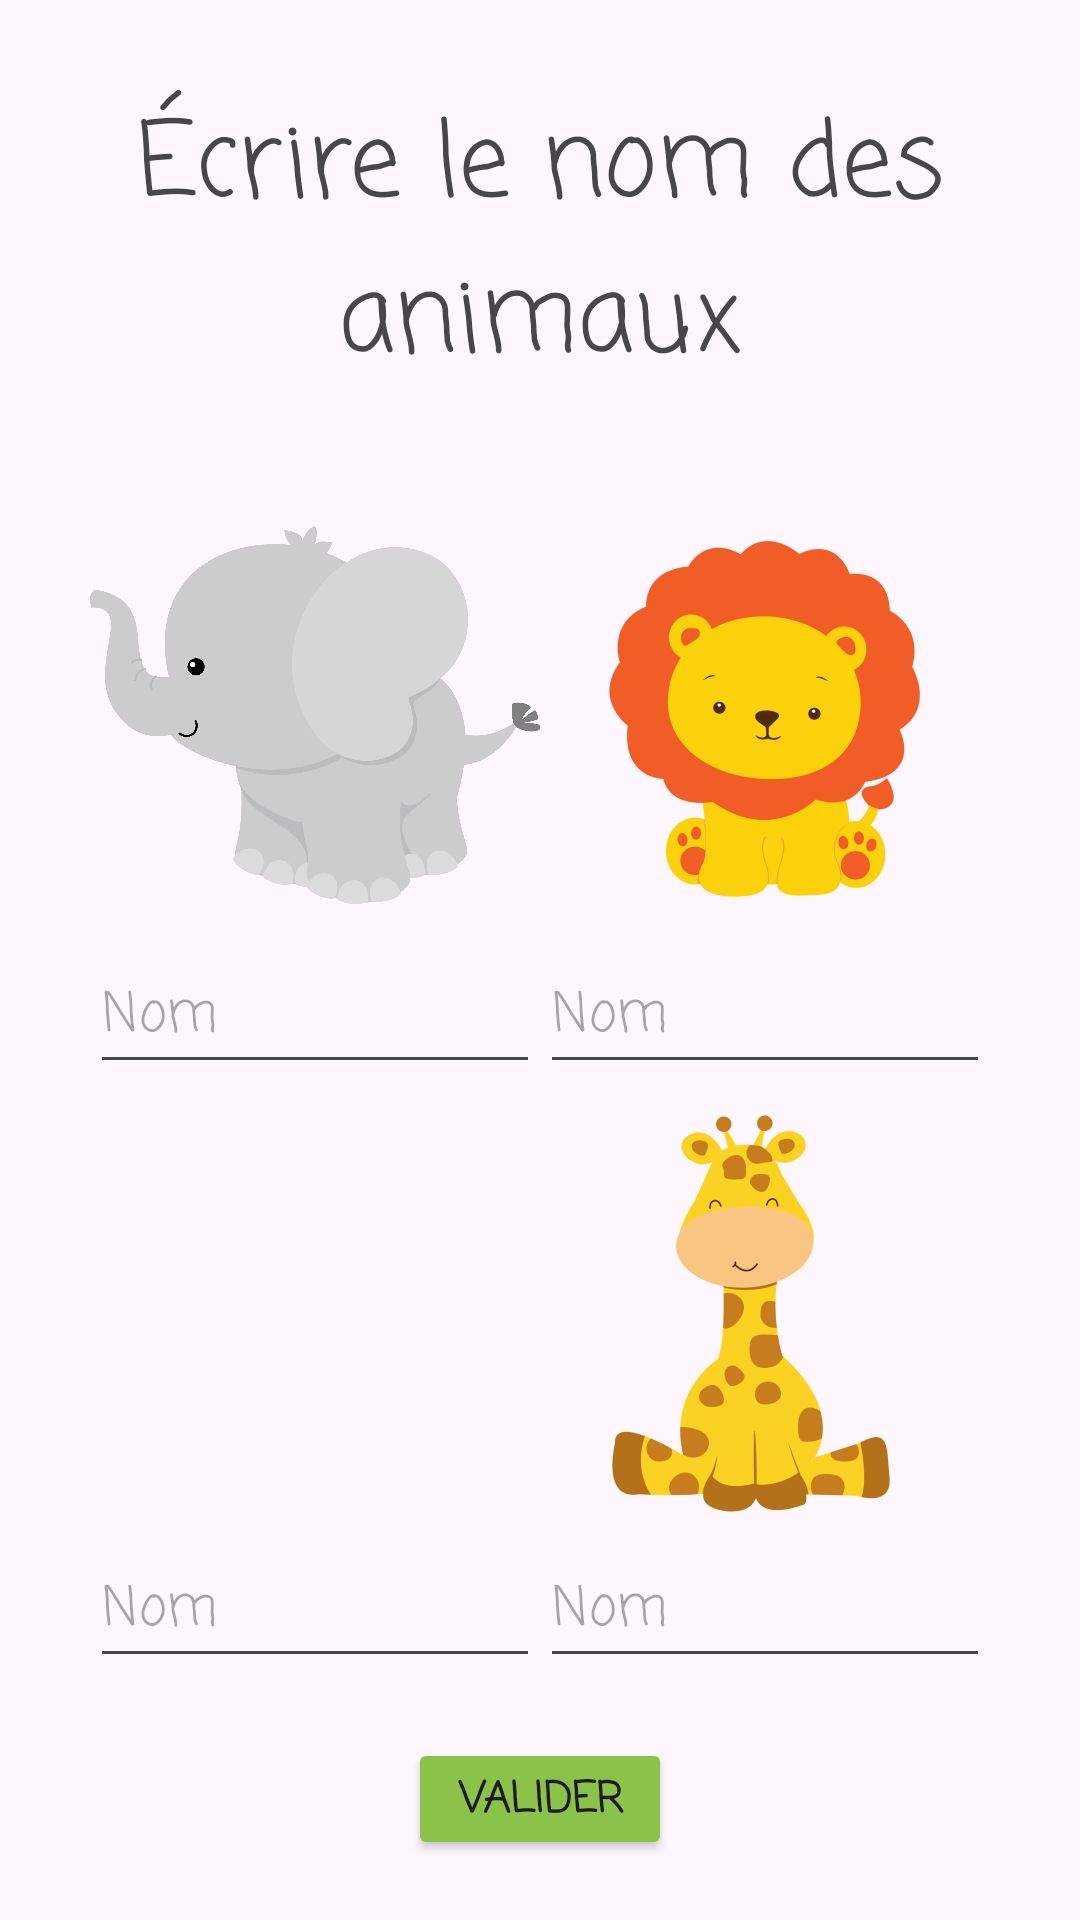

Icons on this 1080x1920 Android screen, each with the point to tap as (x=x, y=y):
baby lion: (x=764, y=719)
